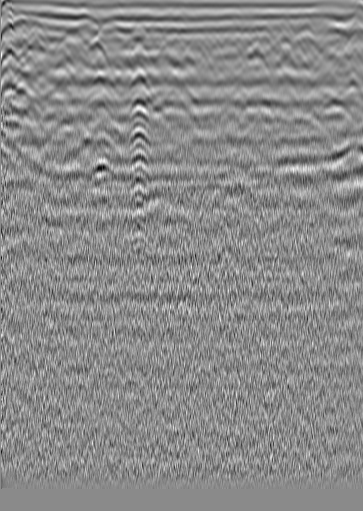가스: (88, 158, 117, 188)
상수: (314, 36, 334, 56)
오수: (22, 29, 42, 49)
우수: (176, 46, 196, 66)
